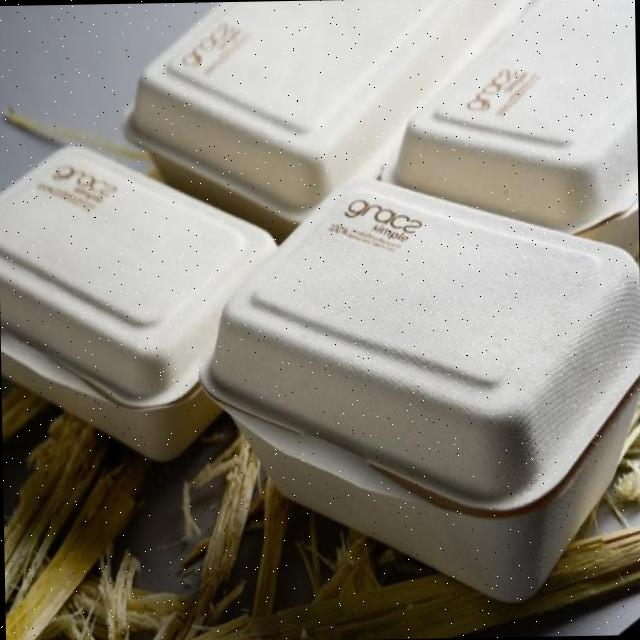styrofoam: (194, 169, 640, 609), (118, 0, 540, 242), (0, 137, 281, 464), (389, 0, 637, 250)
